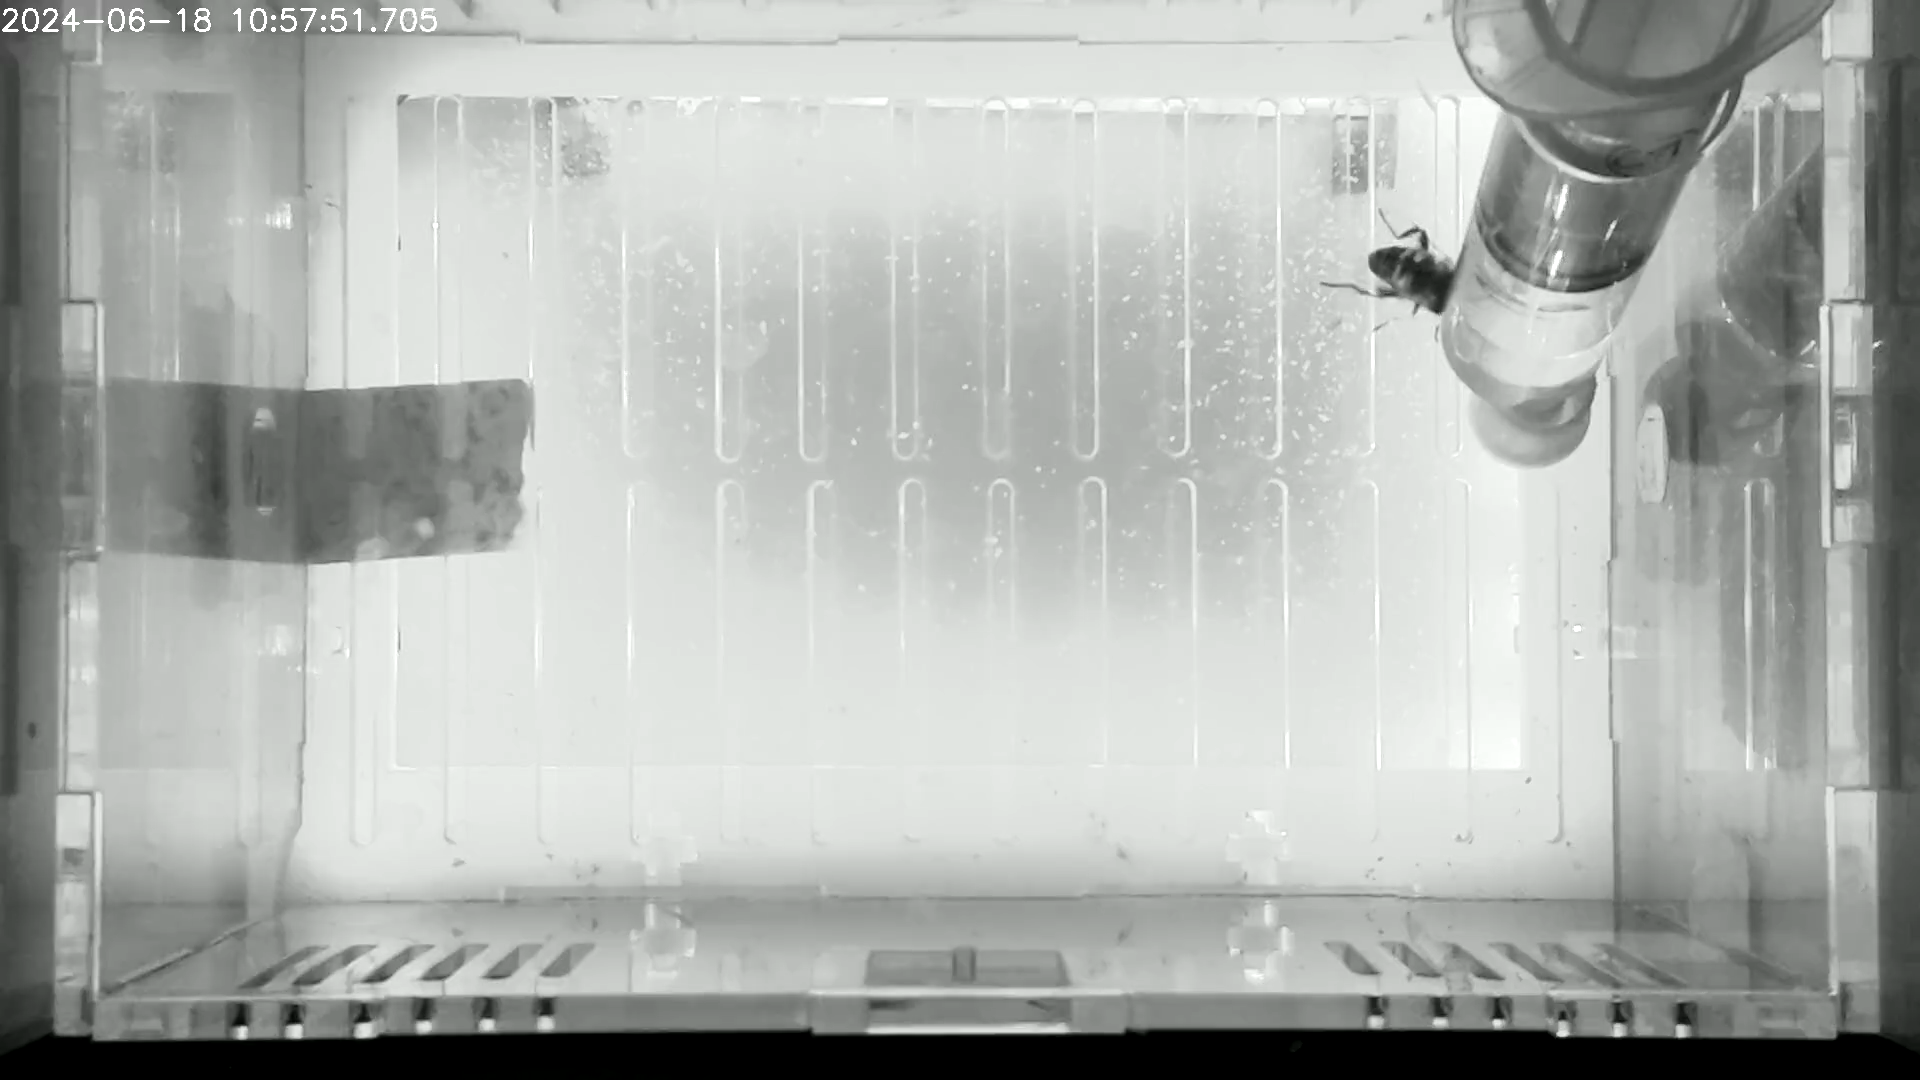bee: (1311, 201, 1460, 349)
feeder: (1435, 109, 1708, 415)
